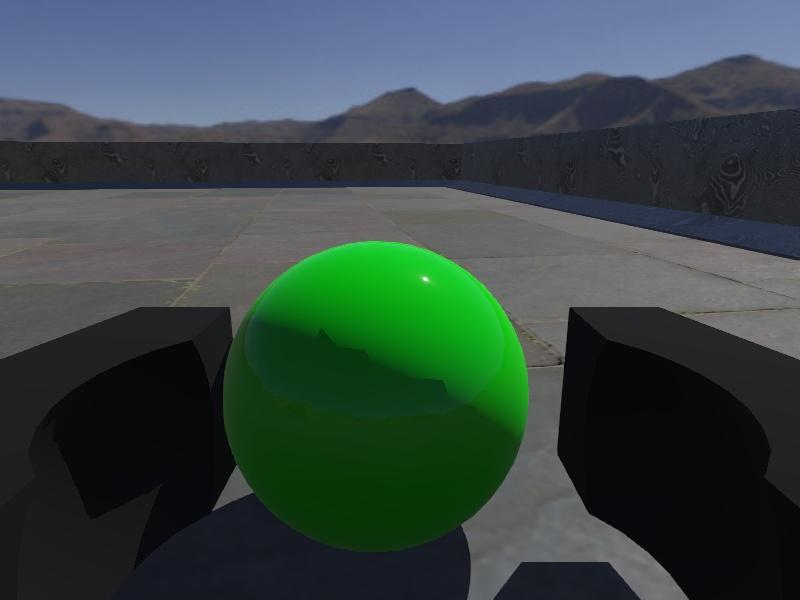green ball: (222, 239, 530, 555)
